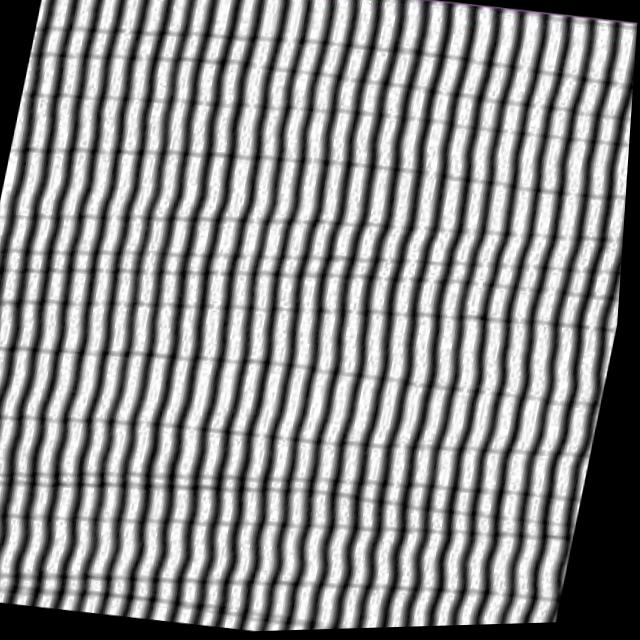Stitch: (0, 524, 265, 630)
